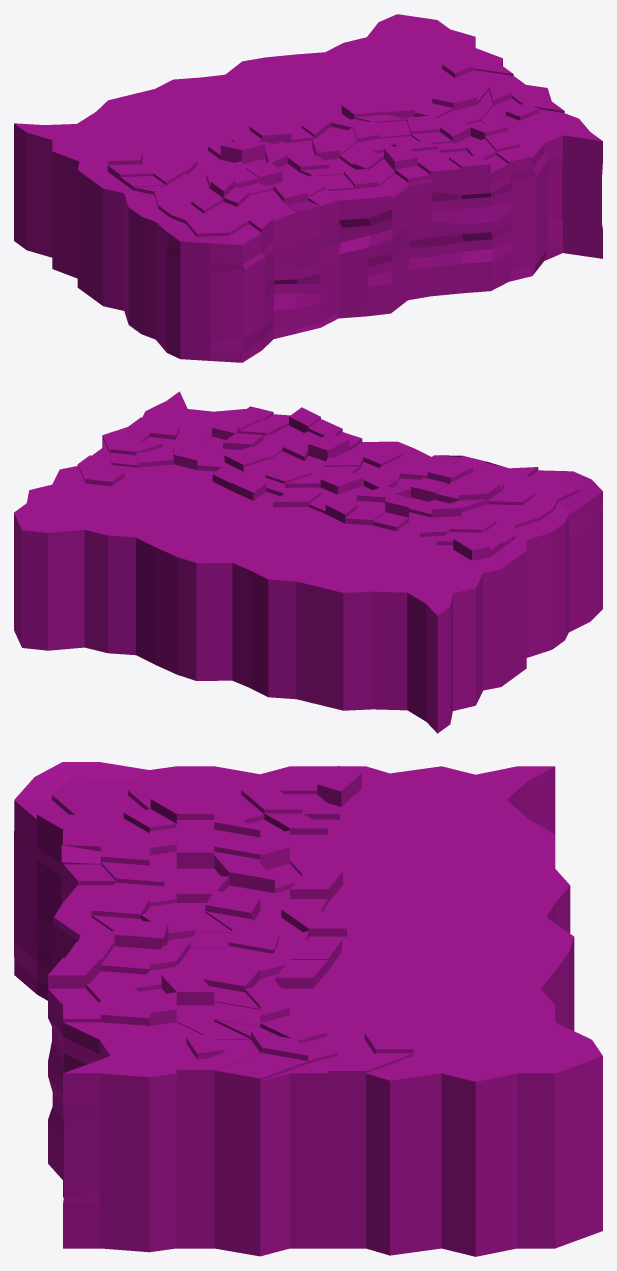
File: CaveBorder.fbx
3 views of the same model, one above another, from view 1: azimuth 30°, elevation 25°; view 2: azimuth 150°, elevation 25°; view 3: azimuth 270°, elevation 25° (orthographic). The views are drawn at different scales.
Parts seen in each view (by area): view 1: Cube; view 2: Cube; view 3: Cube.
Part boxes in pixels (bbox=[...]): Cube: bbox=[14, 14, 602, 362]; Cube: bbox=[14, 391, 602, 733]; Cube: bbox=[14, 762, 602, 1256].
Size of the model in its own units: 6832 by 1983 by 5389.
